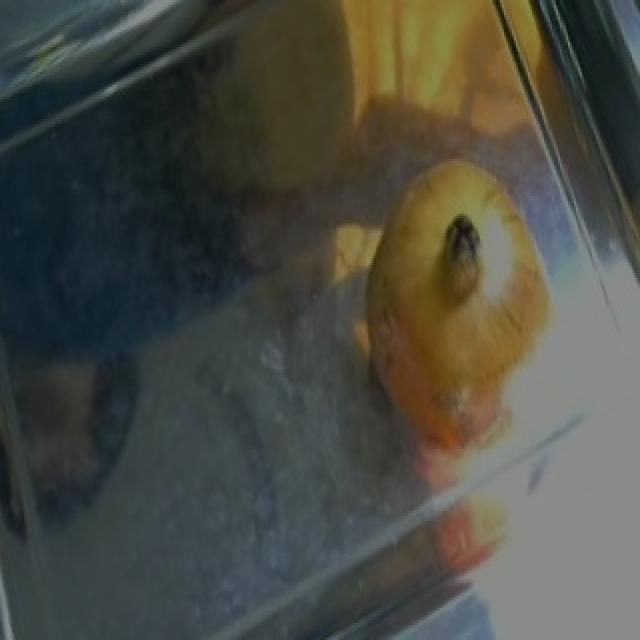fruit: (336, 132, 584, 370)
